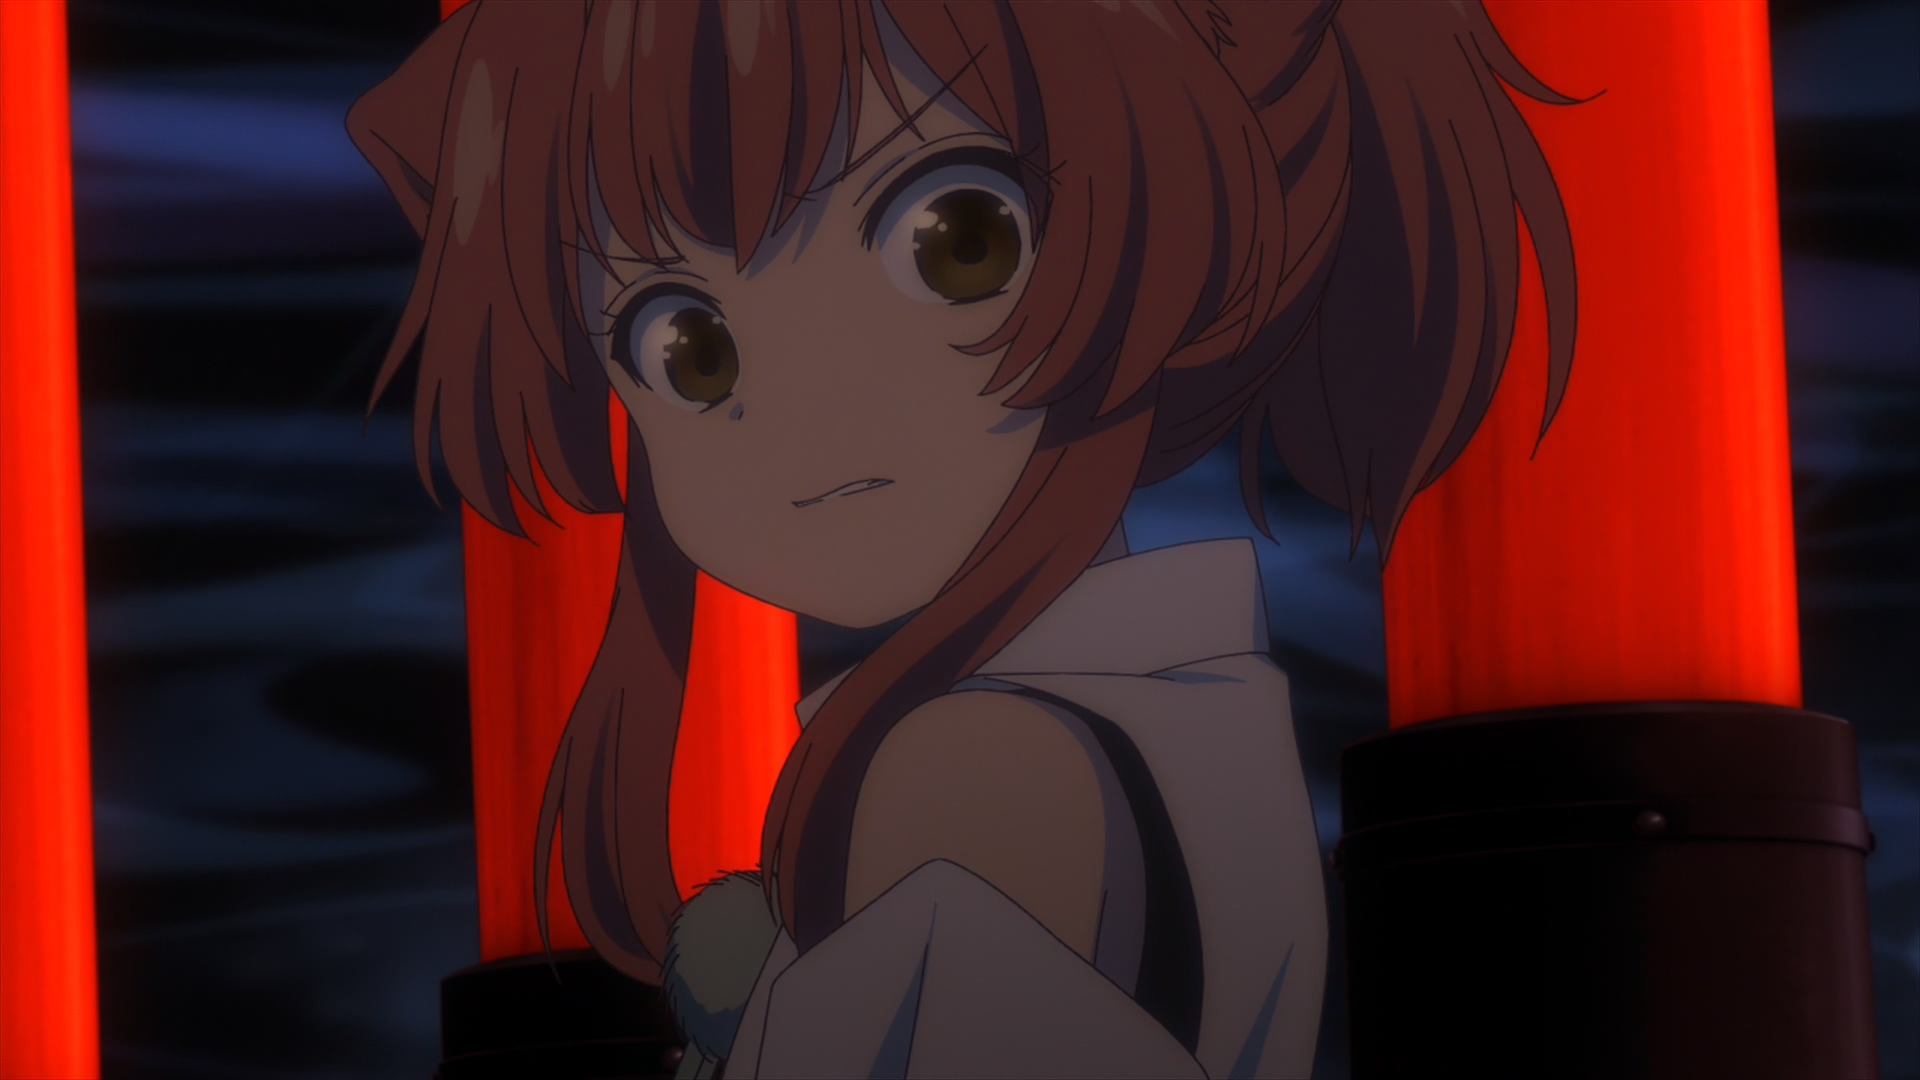椿: (342, 1, 1605, 1080)
